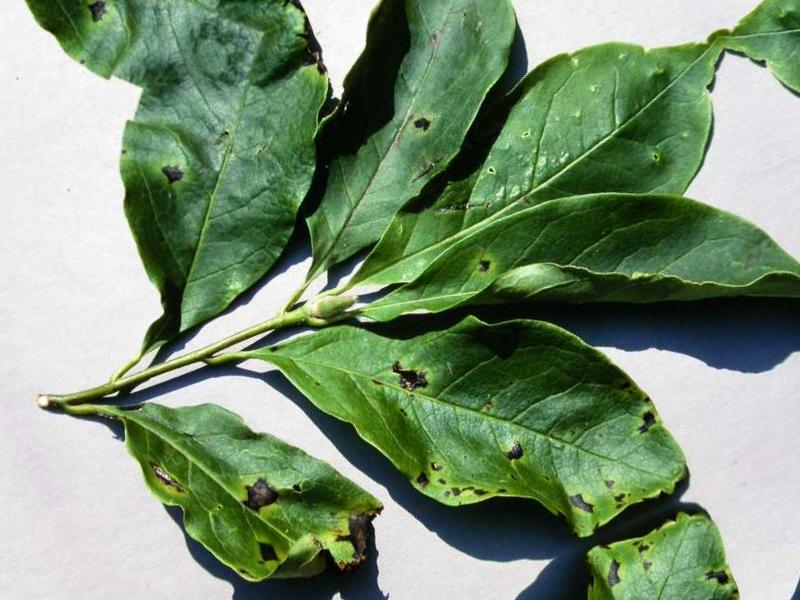Tomato leaf bacterial spot: (254, 198, 699, 600), (355, 110, 800, 483), (179, 0, 596, 306), (94, 330, 402, 600)
